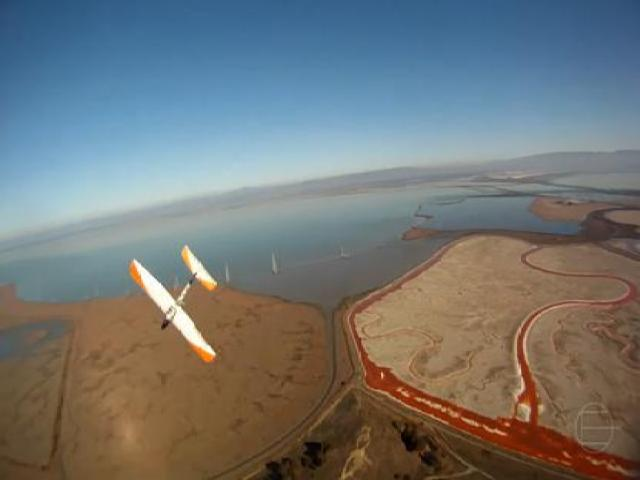uav: (119, 240, 226, 373)
